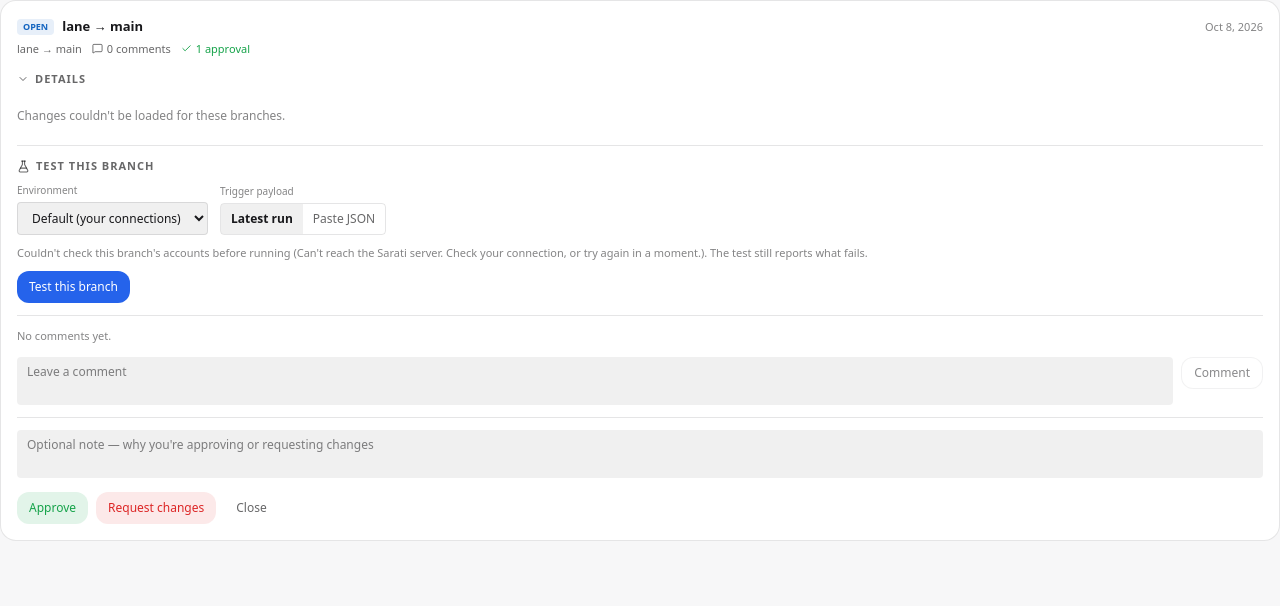
Test: ActivityFeed protected merges › approves the version it showed, and reloads the review when the branch has moved since
Click the button "Approve" at [52, 508], box [17,492,88,524]
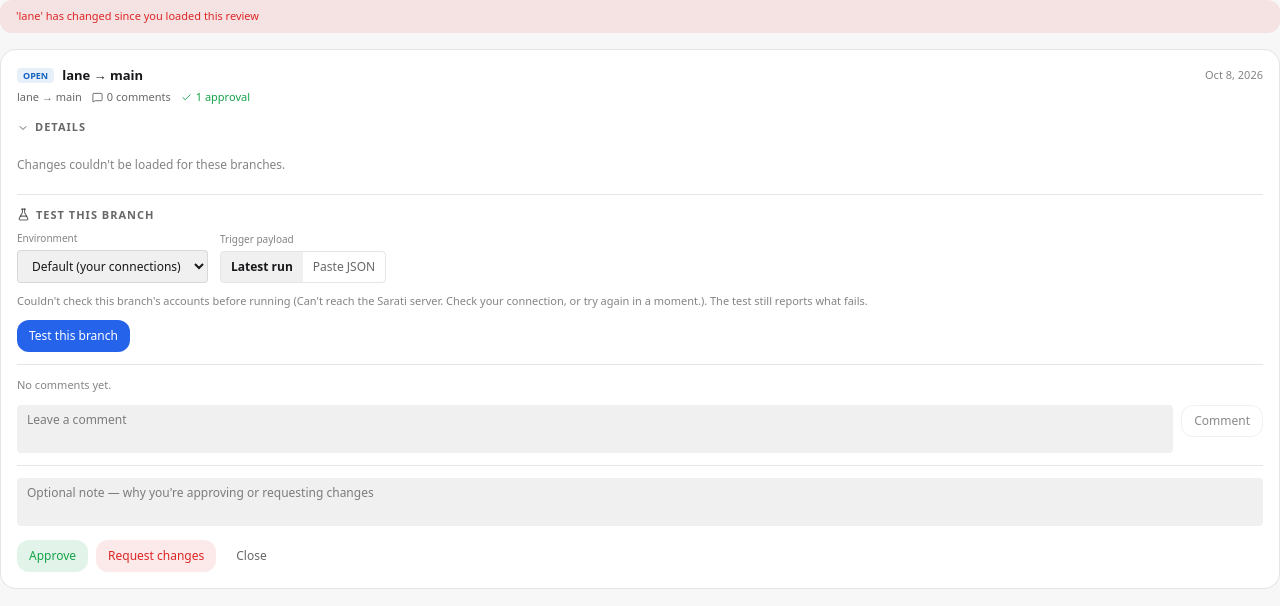
Expected: the text "'lane' has changed since you loaded this review" is shown, [16,8,259,24]
